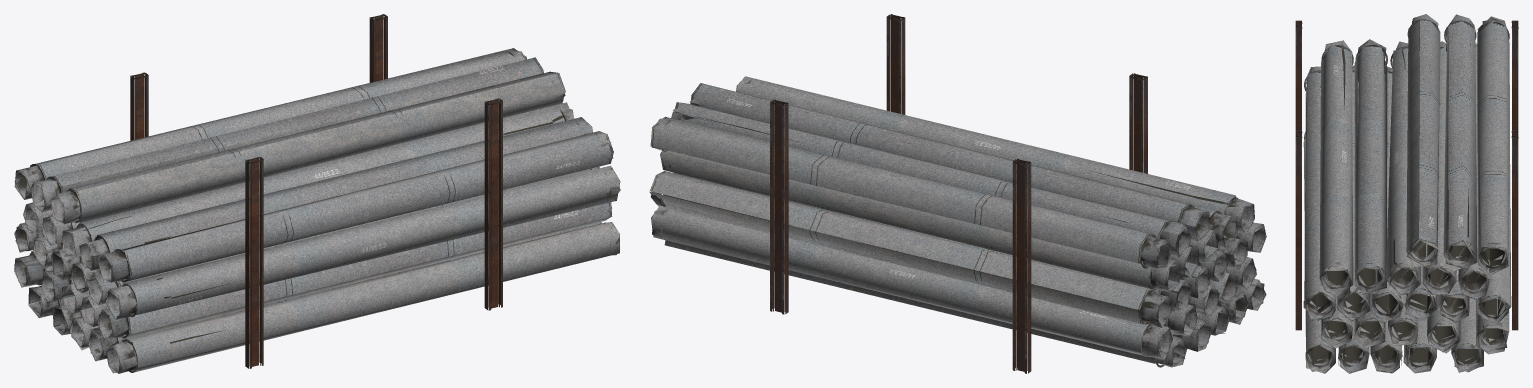
Rendered from tubes.glb.
3 renders of one model, left to right at view 1: azimuth 30°, elevation 25°; view 2: azimuth 150°, elevation 25°; view 3: azimuth 270°, elevation 25°, orthographic. The views are drawn at different scales.
Parts seen in each view (by area): view 1: Cloner_Mat_0; view 2: Cloner_Mat_0; view 3: Cloner_Mat_0.
Part boxes in pixels (x1,y1,x2,y2): Cloner_Mat_0: [14, 14, 620, 373]; Cloner_Mat_0: [649, 14, 1266, 373]; Cloner_Mat_0: [1295, 14, 1518, 373].
Size of the model in its own units: 5.02 by 1.97 by 2.07.
1 material, 1 textured.
